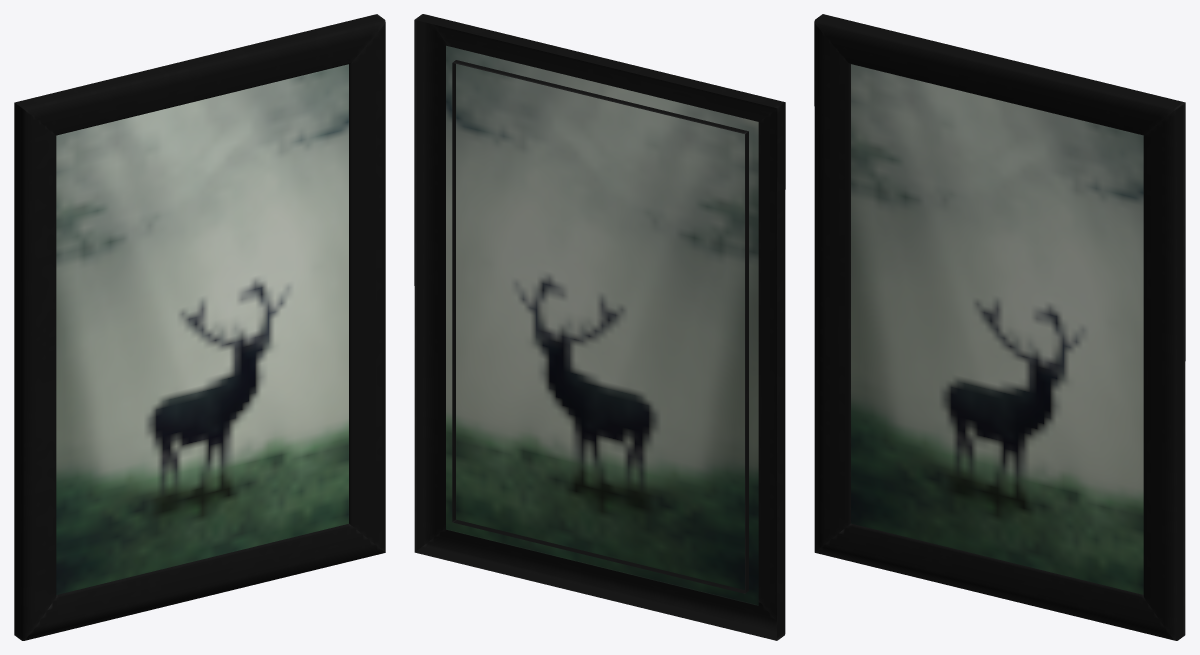
Rendered from Prop_PictureTable_12.fbx.
The picture shows the model from 3 angles, left to right: view 1: azimuth 30°, elevation 25°; view 2: azimuth 150°, elevation 25°; view 3: azimuth 330°, elevation 25°; orthographic projection.
Parts seen in each view (by area): view 1: Prop_PictureTable_12; view 2: Prop_PictureTable_12; view 3: Prop_PictureTable_12.
Part boxes in pixels (x1,y1,x2,y2): Prop_PictureTable_12: (14,14,385,640); Prop_PictureTable_12: (414,14,785,640); Prop_PictureTable_12: (814,14,1185,640).
Size of the model in its own units: 13.21 by 18.54 by 0.6116.
